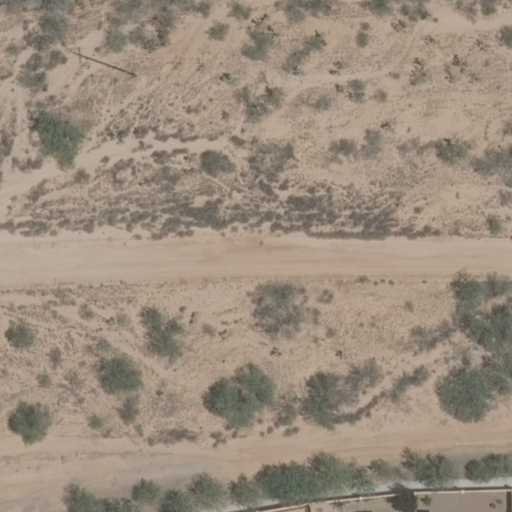DT: (70, 49, 137, 78)
